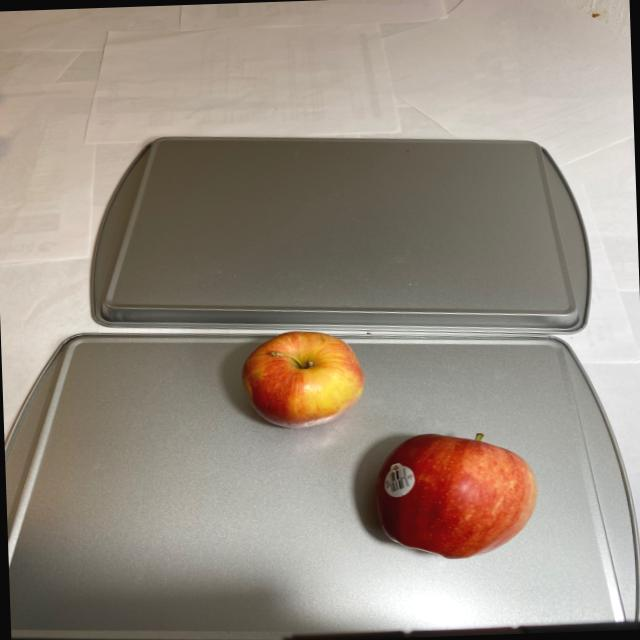apple: (369, 419, 539, 560), (233, 328, 370, 430)
